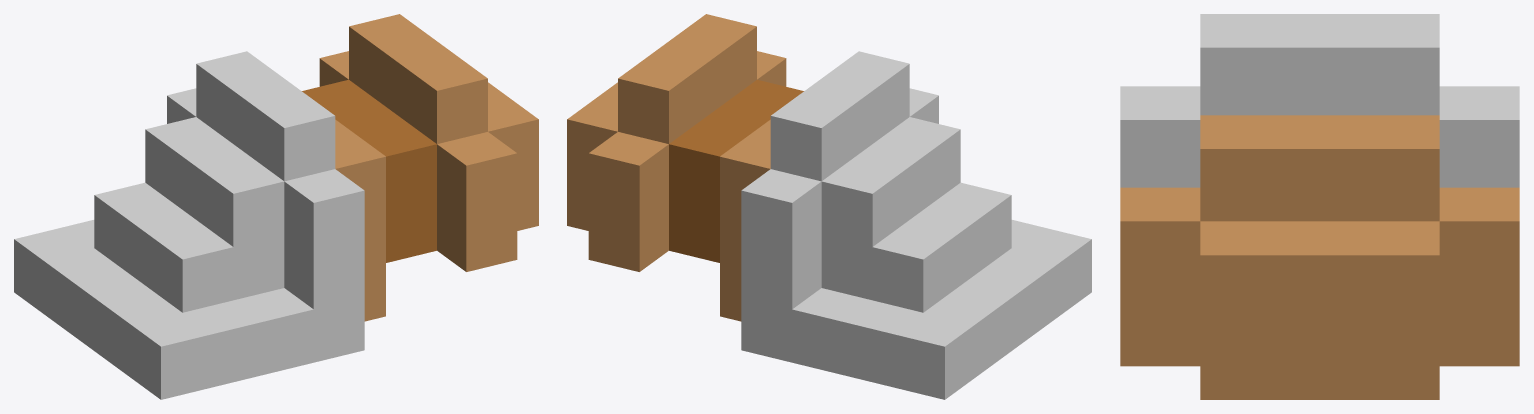
The model's file is FKnightArmUpperL.fbx.
3 views of the same model, side by side, from view 1: azimuth 30°, elevation 25°; view 2: azimuth 150°, elevation 25°; view 3: azimuth 270°, elevation 25° (orthographic). The views are drawn at different scales.
Visible parts, largest first — view 1: FemKnightArms; view 2: FemKnightArms; view 3: FemKnightArms.
Boxes of the visible parts, left/top/right/bottom form: FemKnightArms: left=14, top=14, right=538, bottom=399; FemKnightArms: left=567, top=14, right=1091, bottom=399; FemKnightArms: left=1120, top=14, right=1519, bottom=399.
Size of the model in its own units: 8 by 4 by 5.
1 material, 1 textured.
